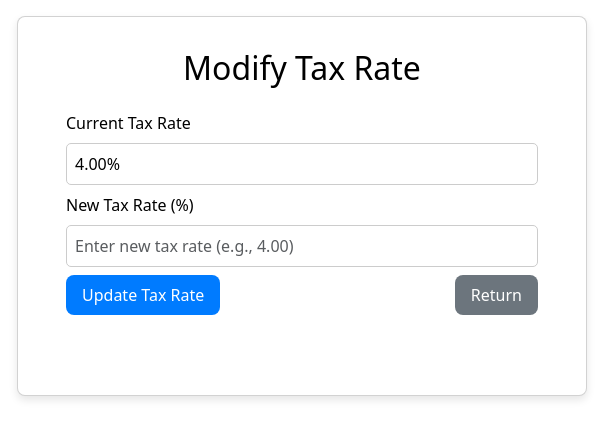
Scenario: ModifyTaxRateComponent › displays validation error for invalid new tax rate input
Check: the field showing "4.00%" is shown, box [66,143,538,185]
// Enter an invalid new tax rate
Step 1. Type "-5" into the number field with placeholder "Enter new tax rate (e.g., 4.00)" → (302, 246), box [66,225,538,267]
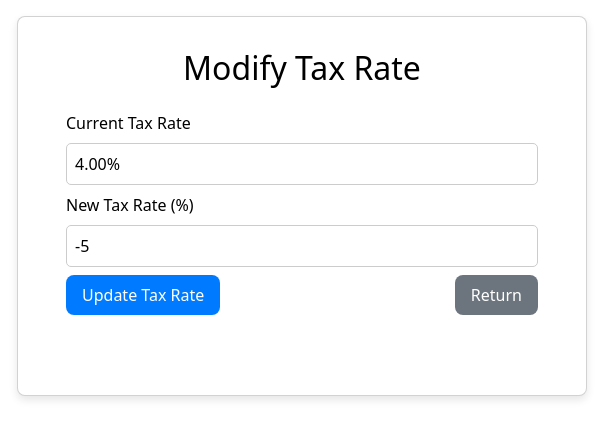
Step 2. Click the button "Update Tax Rate" → (143, 295), box [66,275,220,315]
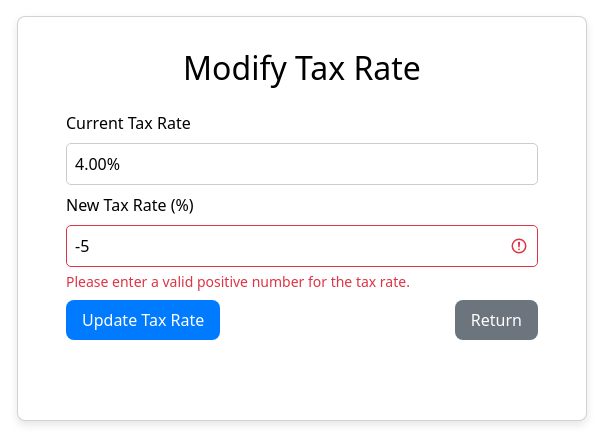
Check: the text "Please enter a valid positive number for the tax rate." is shown, box [66,272,410,291]
